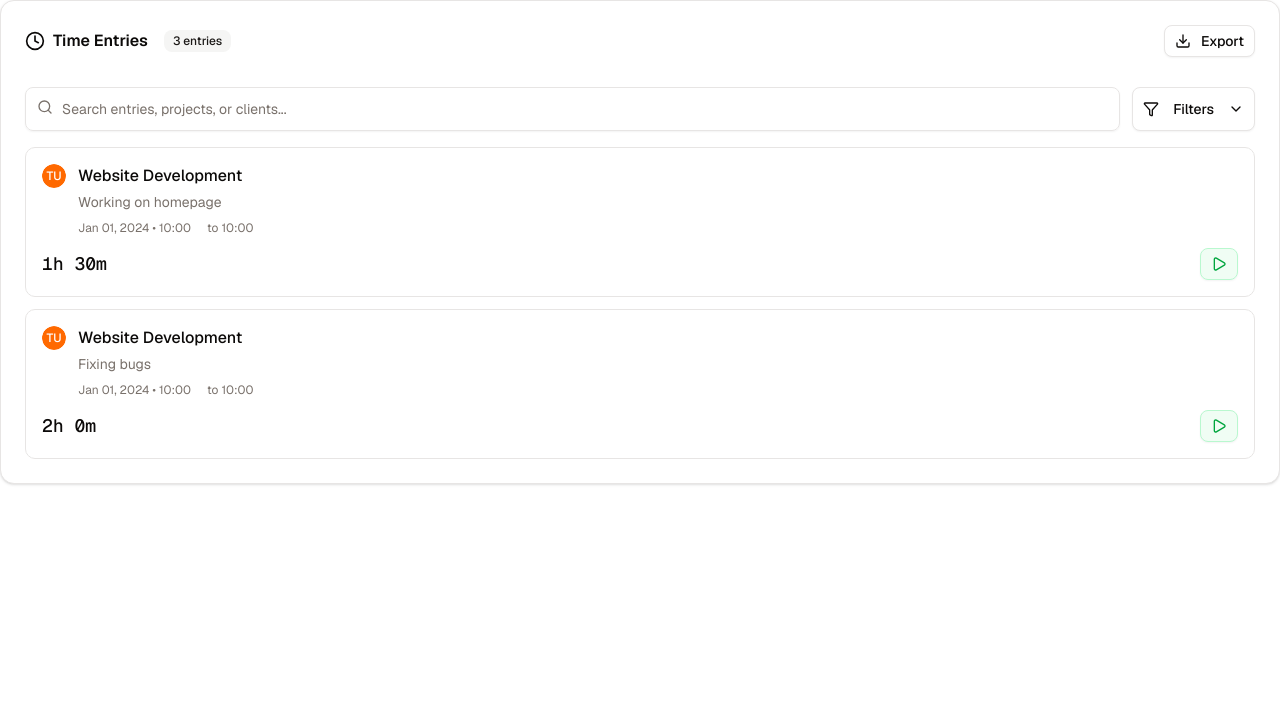
Test: EnhancedTimeEntriesList › in full mode › should toggle filters visibility
Click the button "Filters" at (1194, 109), box left=1132, top=87, right=1255, bottom=131
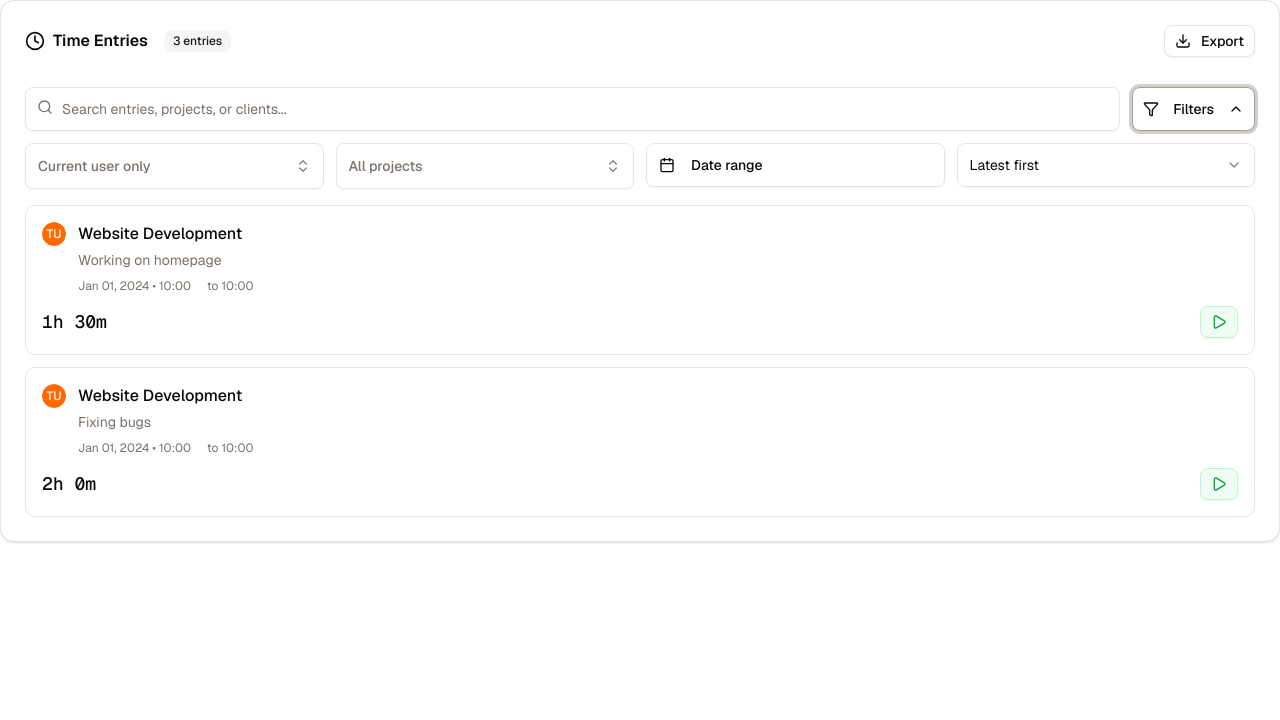
Expected: the text "Current user only" is shown, left=38, top=152, right=151, bottom=180
Expected: the text "All projects" is shown, left=348, top=152, right=423, bottom=180
